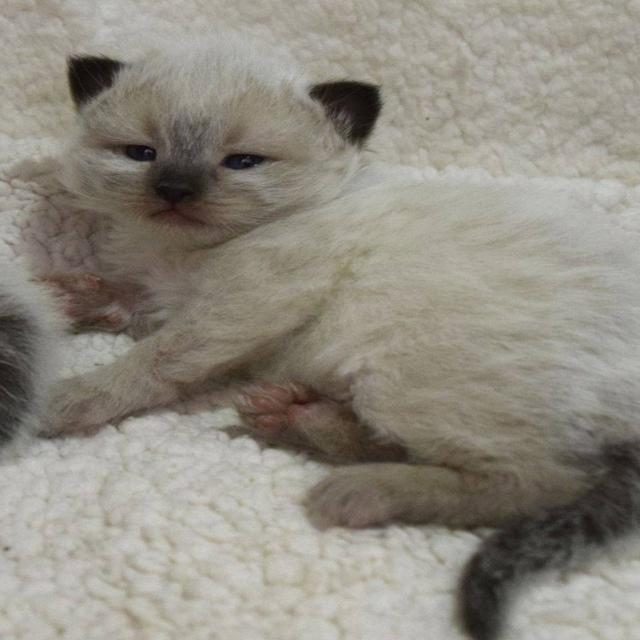Neva Masquerade: (14, 40, 640, 640)
